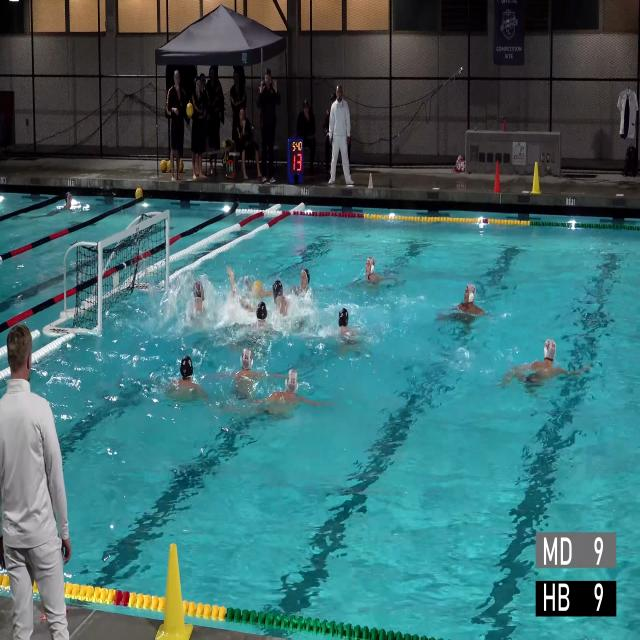ball: (252, 280, 262, 294), (186, 103, 194, 117), (168, 160, 175, 173), (135, 188, 143, 199), (160, 160, 167, 172), (180, 160, 183, 172)
